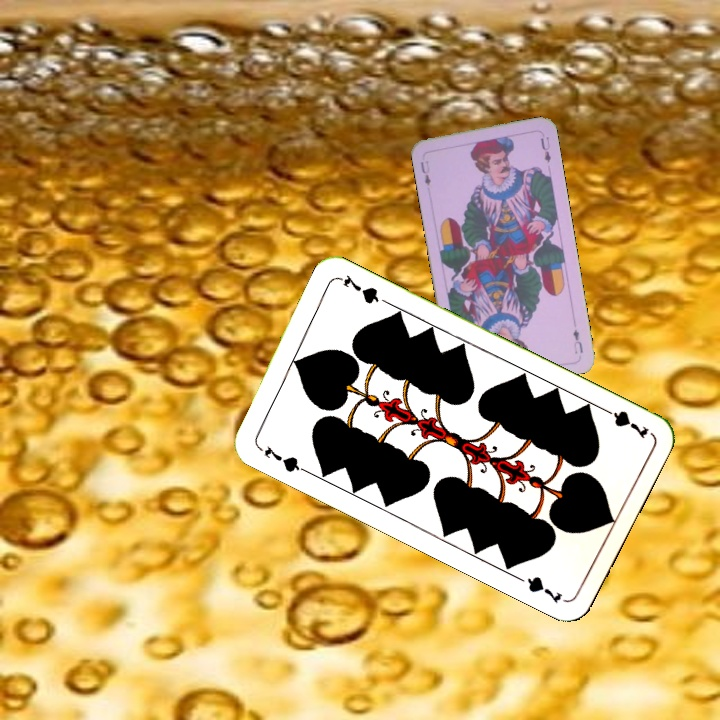EU: (569, 325, 586, 357), (417, 156, 433, 188)
G7: (596, 403, 652, 442), (260, 441, 308, 475)
